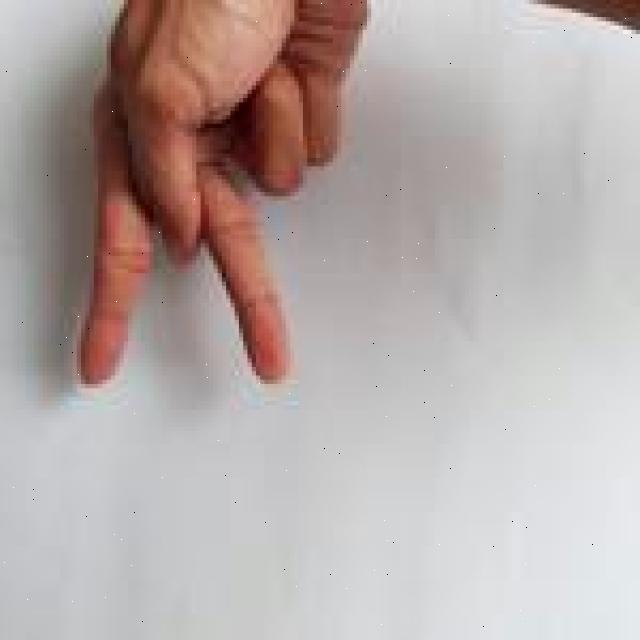P: (63, 0, 376, 393)
